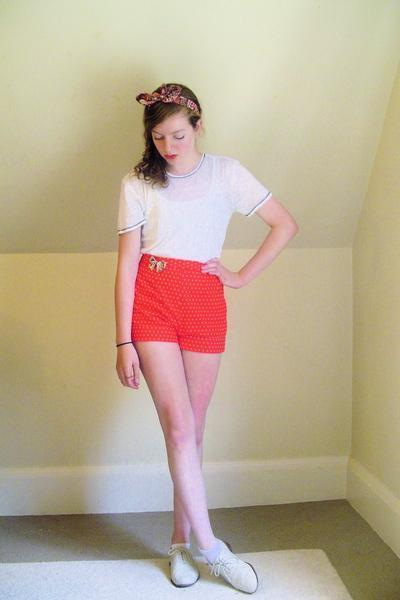shirt: (118, 156, 271, 262)
shoe: (172, 528, 250, 584)
shorts: (128, 254, 226, 353)
